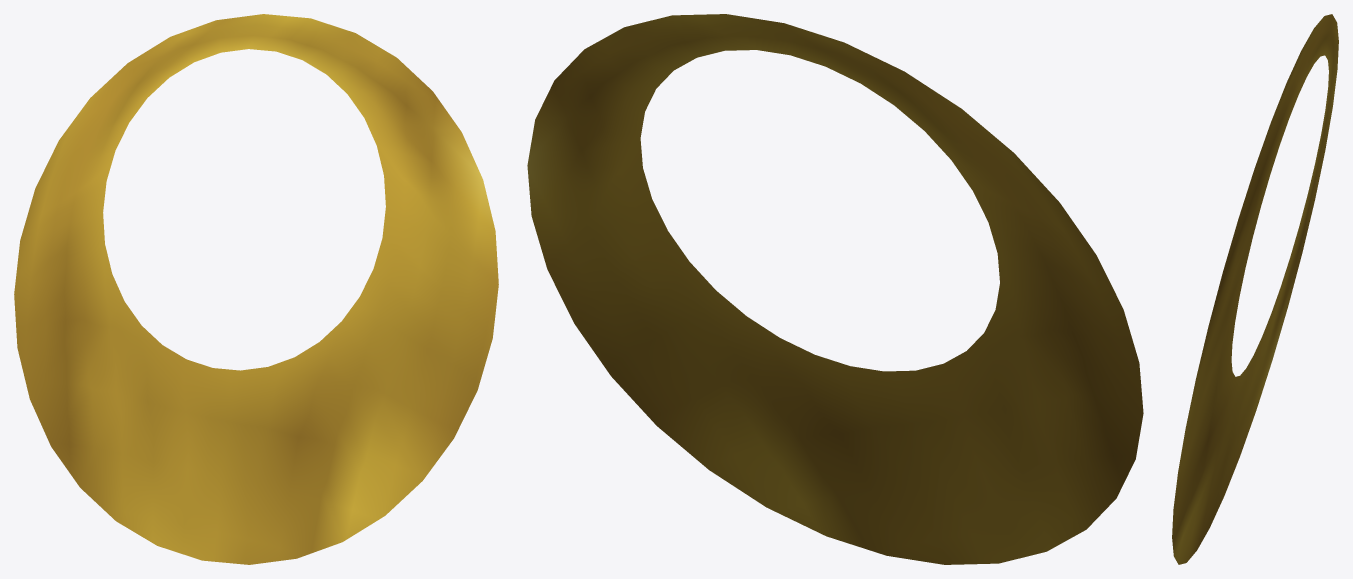
File: helmet_moch_narig.dae
3 views of the same model, side by side, from view 1: azimuth 30°, elevation 25°; view 2: azimuth 150°, elevation 25°; view 3: azimuth 270°, elevation 25° (orthographic). The views are drawn at different scales.
Parts seen in each view (by area): view 1: helmet_moch_narig; view 2: helmet_moch_narig; view 3: helmet_moch_narig.
Part boxes in pixels (x1,y1,x2,y2): helmet_moch_narig: [14, 14, 498, 564]; helmet_moch_narig: [527, 14, 1143, 564]; helmet_moch_narig: [1172, 14, 1338, 564].
Size of the model in its own units: 0.1434 by 0.0418 by 0.1372.
